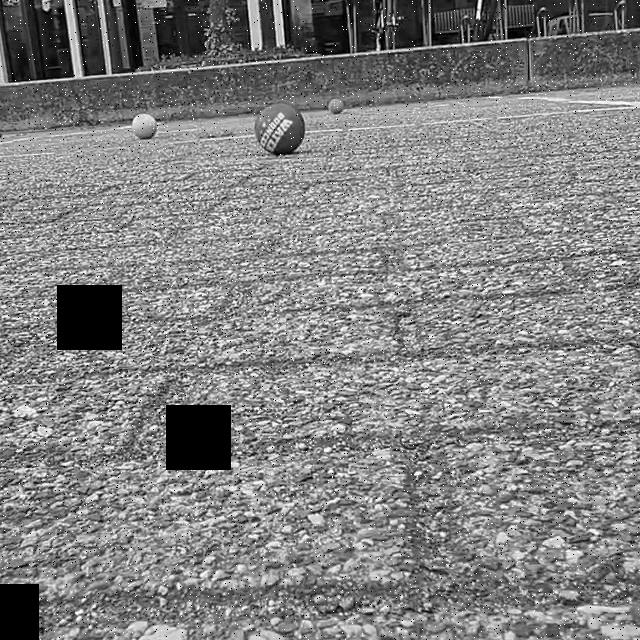ball: (130, 109, 158, 141)
